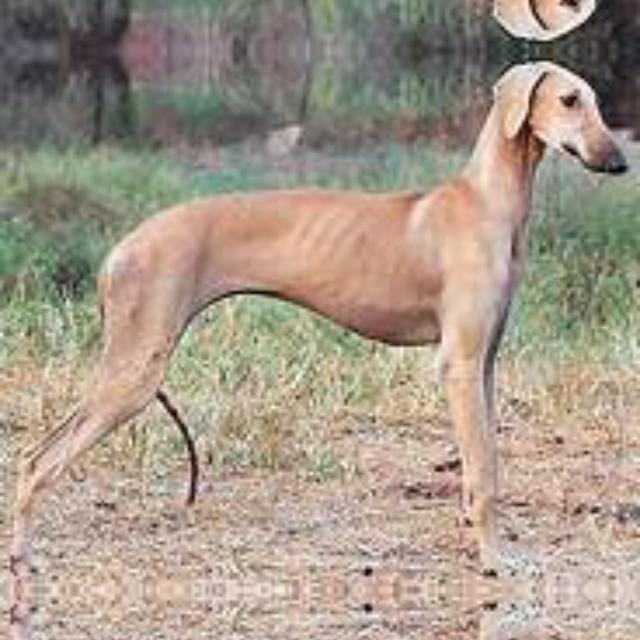dog: (48, 51, 638, 590), (48, 589, 638, 640), (48, 0, 638, 49)
